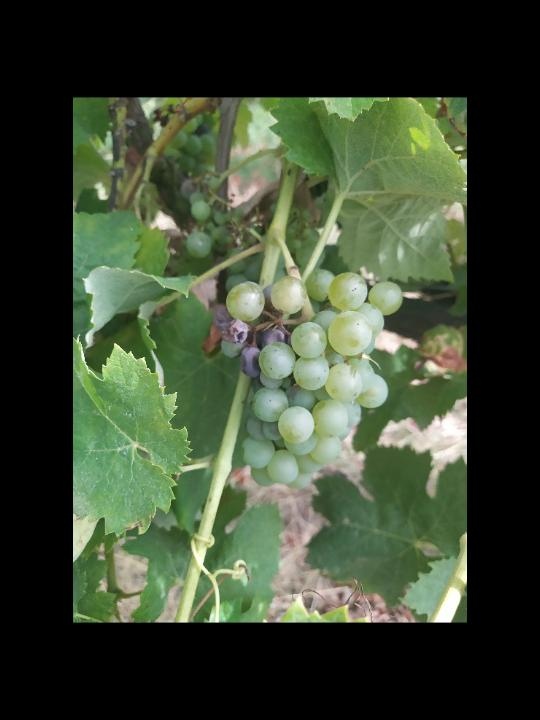grape: (214, 267, 405, 491)
